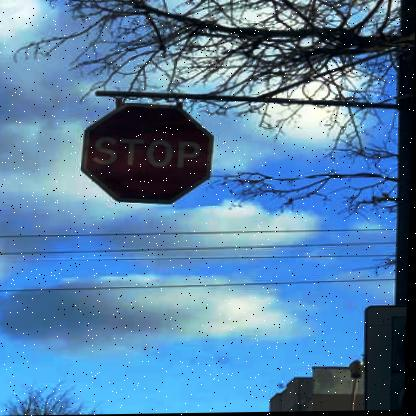Stop Sign: (79, 100, 223, 211)
